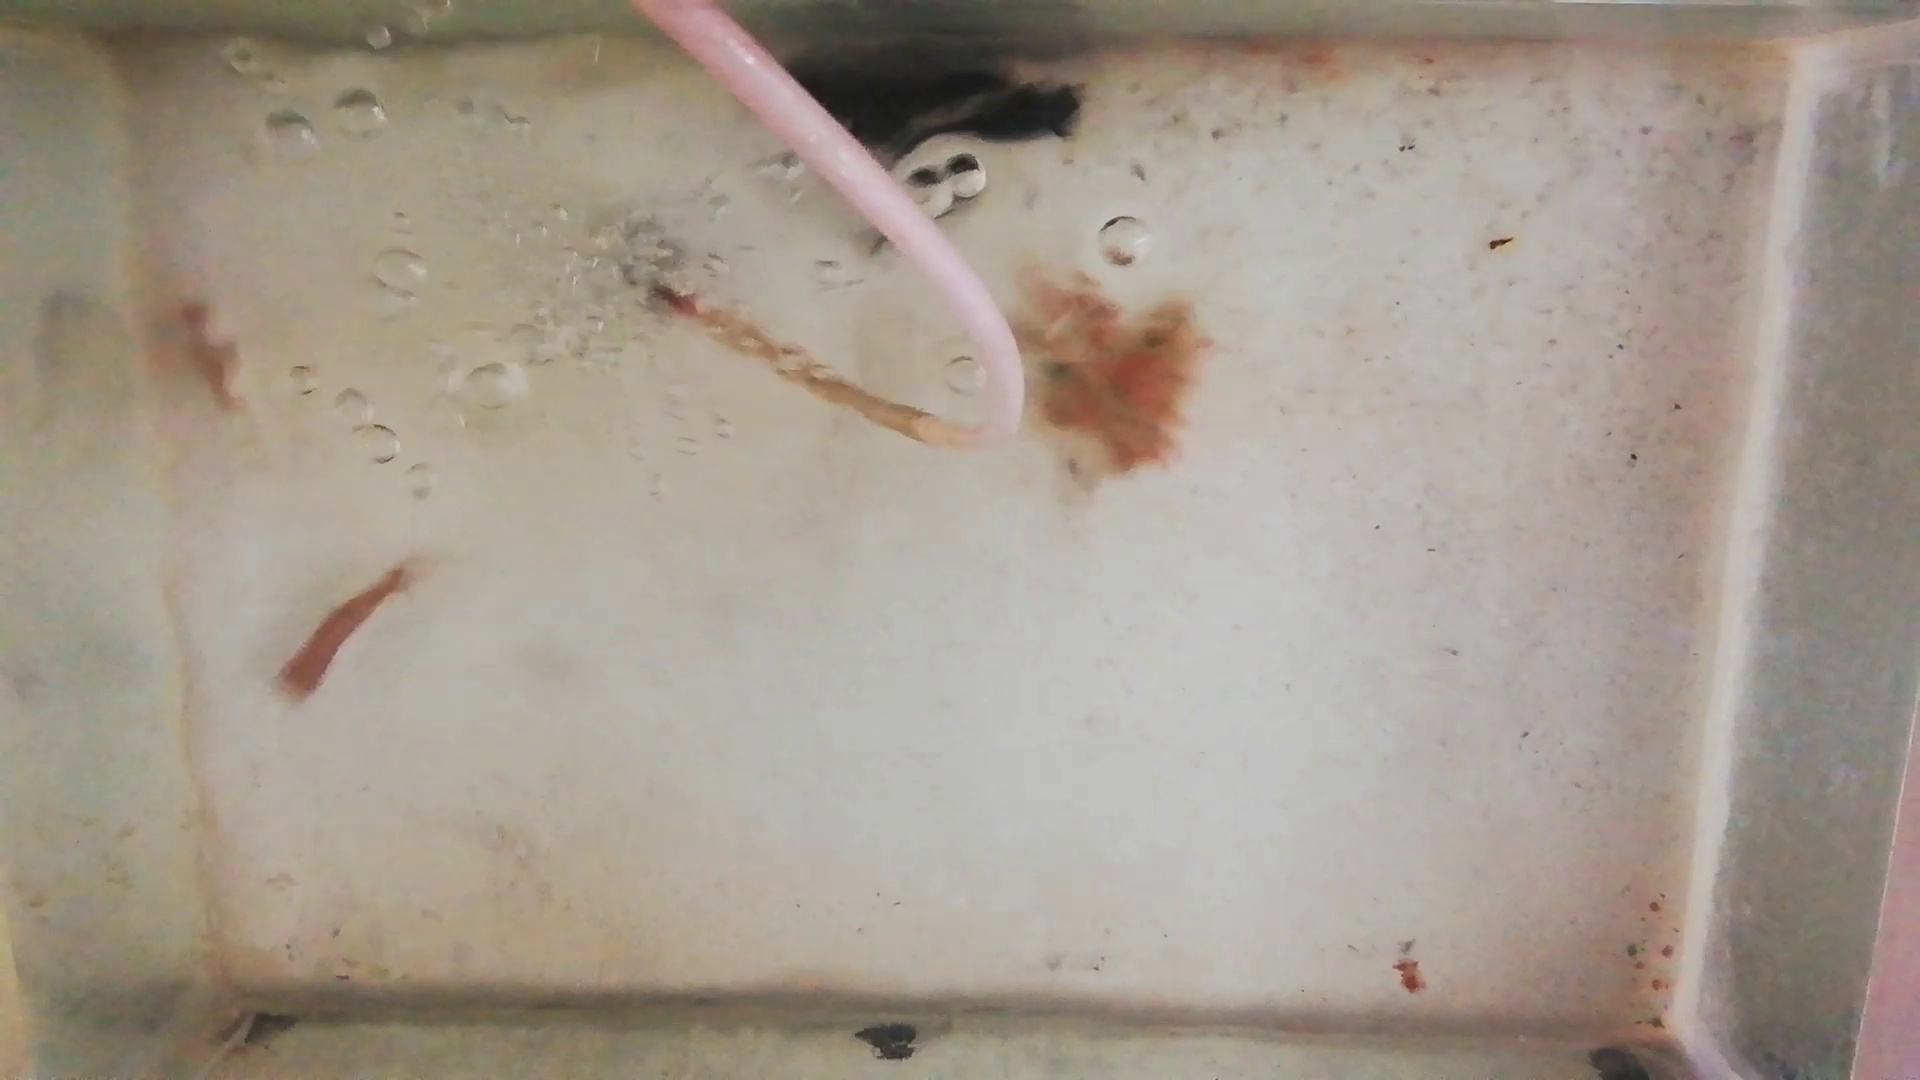fish: (284, 568, 407, 703), (170, 282, 251, 411)
